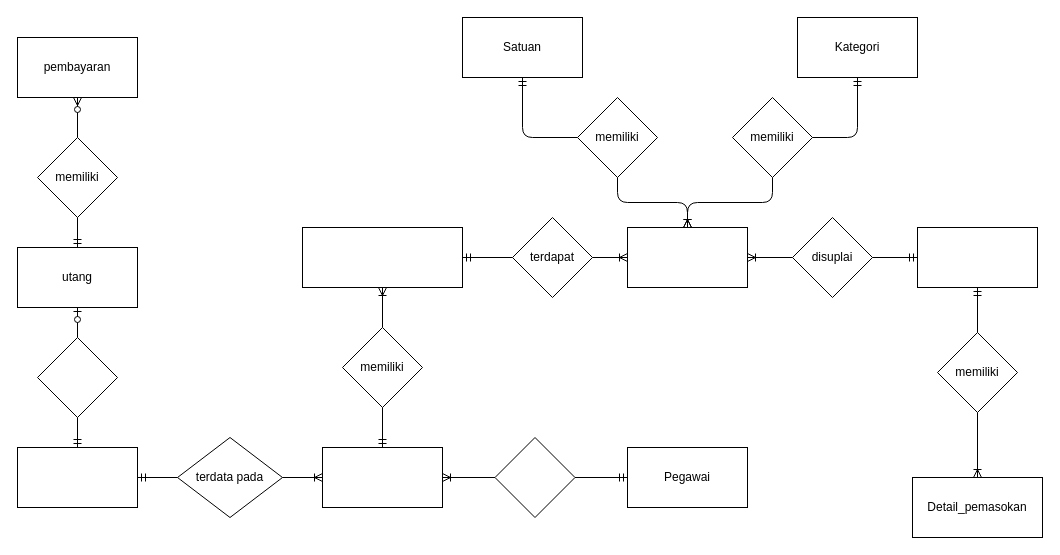
Some shapes in this 1060 by 555 pixel diagram are drawn without their labels. The box of each missing label's shape, as (x1, y1, x2, y2) in pixels:
Barang: (626, 226, 748, 288)
bisa: (36, 336, 118, 418)
DetailTransaksiPenjualan: (302, 226, 462, 288)
dilakukan: (494, 436, 575, 518)
Pemasok: (916, 226, 1038, 288)
Pembeli: (16, 446, 138, 508)
Transaksi: (322, 446, 442, 508)
